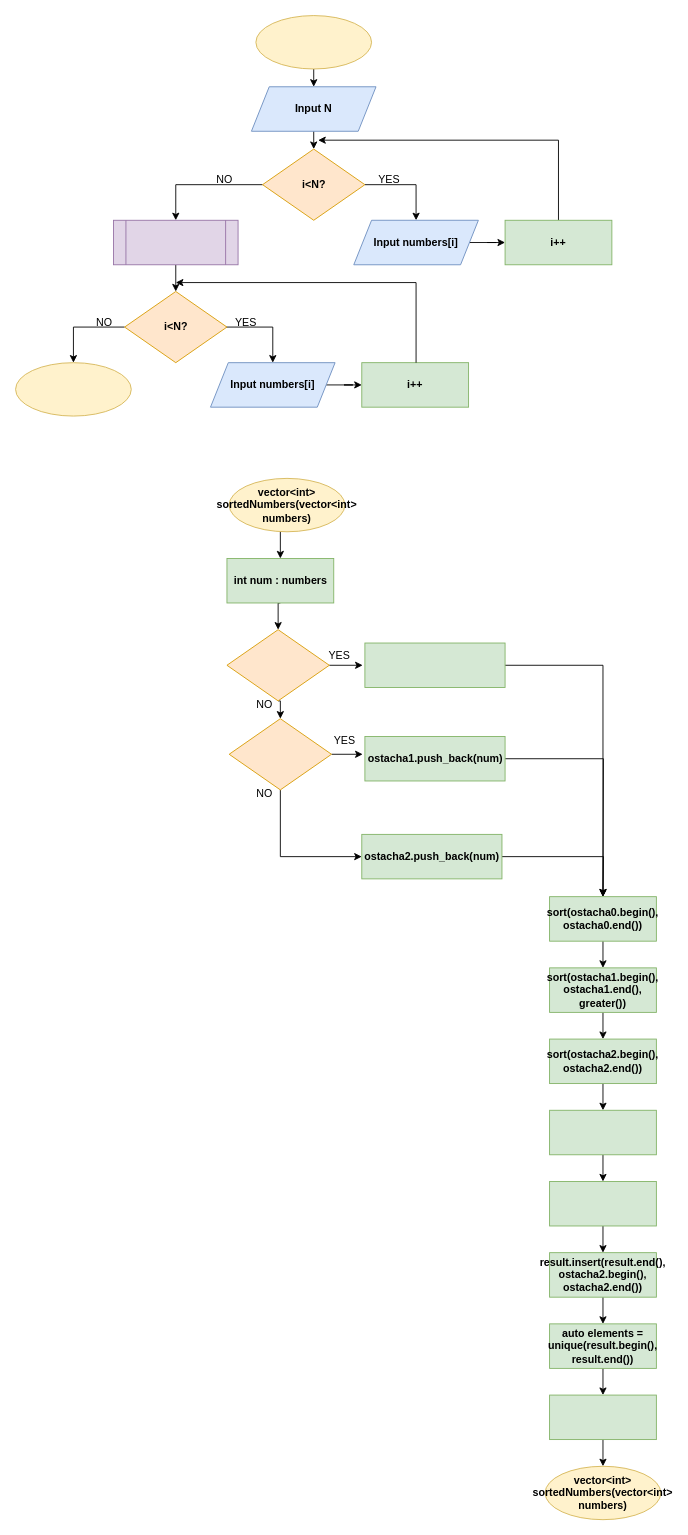
The diagram is 688 pixels wide and 1535 high, and some of its shapes have lost their labels. The shapes that lost their labels are listed below. From the top down, each one's centre as x and y in pixels, then its label:
pixel 313 42: Start
pixel 175 242: vector<int> Result = sortedNumbers(numbers)
pixel 73 389: Finish
pixel 277 665: num % 3 == 0?
pixel 434 665: ostacha0.push_back(num)
pixel 280 754: num % 3 == 1?
pixel 602 1132: vector result = ostacha0
pixel 602 1203: result.insert(result.end(), ostacha1.begin(), ostacha1.end())
pixel 602 1417: result.erase(elements, result.end())
